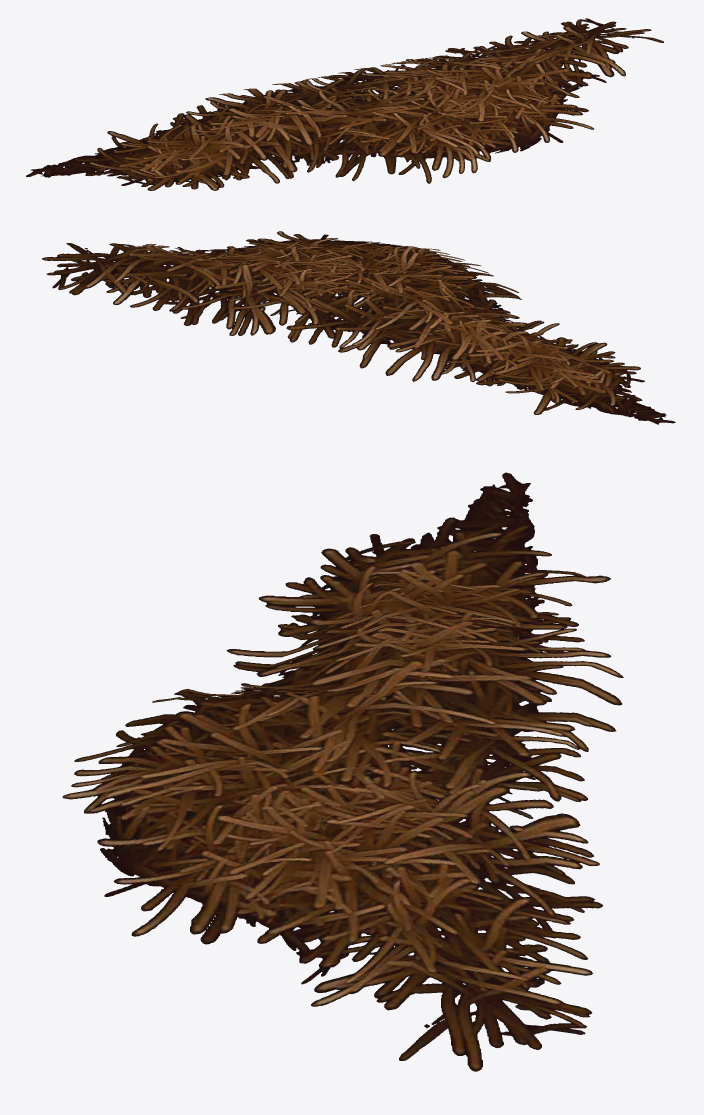
The picture shows the model from 3 angles, top to bottom: view 1: azimuth 30°, elevation 25°; view 2: azimuth 150°, elevation 25°; view 3: azimuth 270°, elevation 25°; orthographic projection. The views are drawn at different scales.
Parts seen in each view (by area): view 1: SM_Hay_Pile_04_LOD0; view 2: SM_Hay_Pile_04_LOD0; view 3: SM_Hay_Pile_04_LOD0.
Part boxes in pixels (x1,y1,x2,y2): SM_Hay_Pile_04_LOD0: [26, 18, 663, 190]; SM_Hay_Pile_04_LOD0: [42, 231, 675, 424]; SM_Hay_Pile_04_LOD0: [62, 472, 623, 1071].
Bounding box in the file's own units: 3.1 × 0.1011 × 1.25.
1 material, 1 textured.
